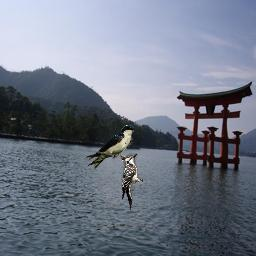Swallow: (84, 125, 134, 169)
Woodpecker: (120, 152, 143, 211)
